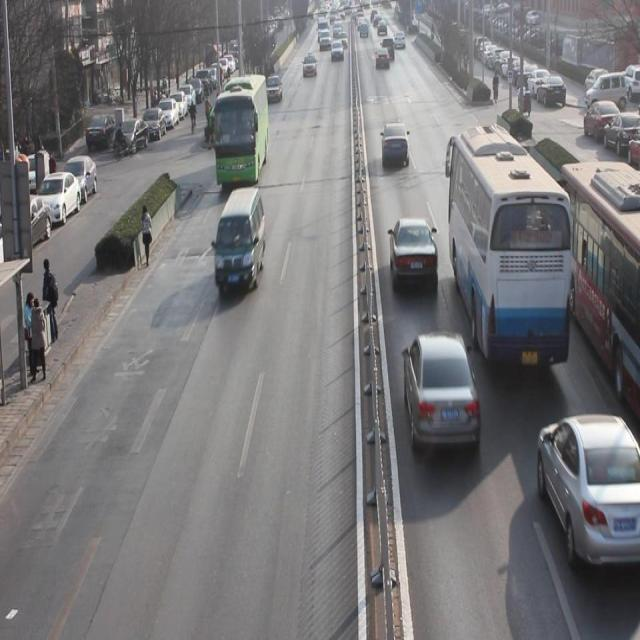car: (537, 408, 628, 578), (401, 328, 484, 460), (386, 217, 442, 291), (379, 120, 412, 168), (265, 73, 284, 102), (302, 53, 318, 79), (330, 39, 346, 64), (374, 46, 390, 69)
truck: (213, 188, 268, 297)
van: (448, 128, 567, 372), (555, 162, 640, 412), (214, 76, 267, 188)
